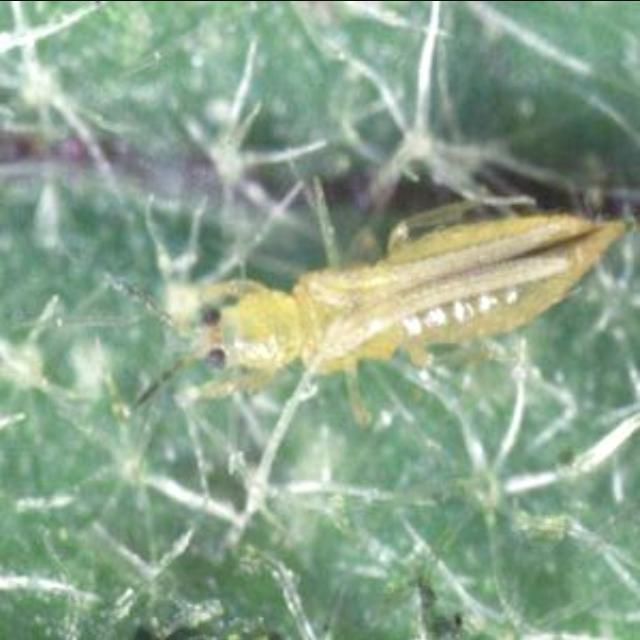melon thrips: (50, 140, 640, 448)
